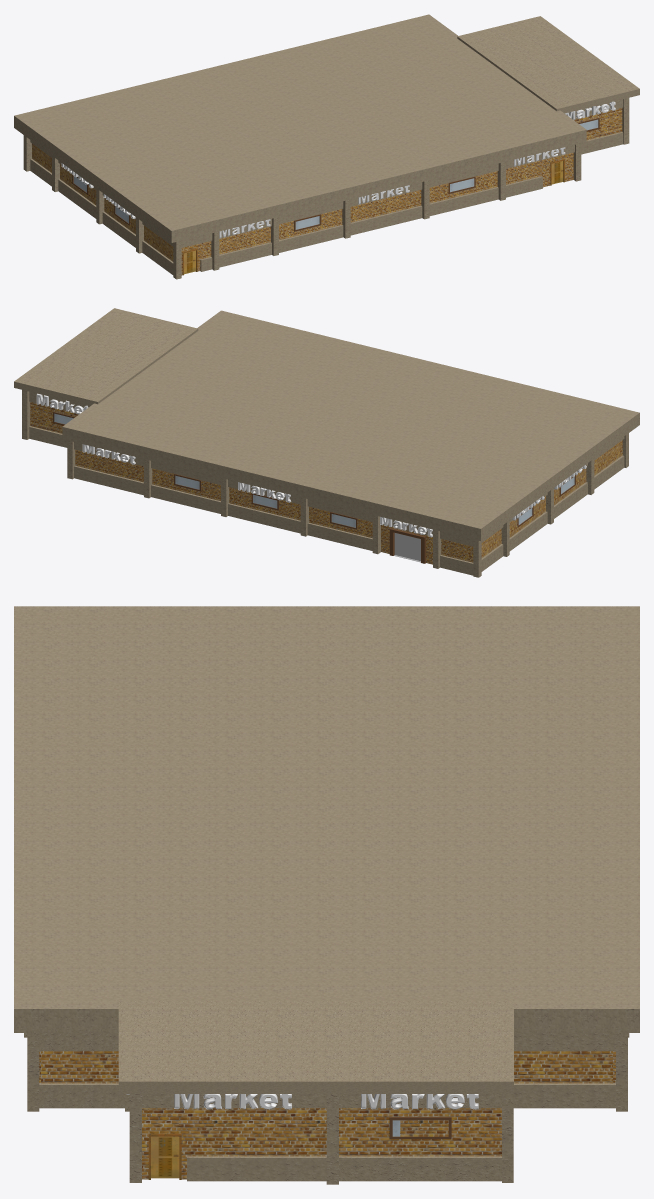
File: Market.fbx
The picture shows the model from 3 angles, top to bottom: view 1: azimuth 30°, elevation 25°; view 2: azimuth 150°, elevation 25°; view 3: azimuth 270°, elevation 25°; orthographic projection. The views are drawn at different scales.
Parts seen in each view (by area): view 1: Top, Market21, Exterior (×3), Market18, Market14; view 2: Top, Market19, Exterior (×3), Market18, Market16, Door_Large_Frame, Market13, Down; view 3: Top, Market13, Exterior, Walls_Exterior, Block_Top, Door_Single.
Part boxes in pixels (box(x1,y1,x2,y2)): Top: box(14, 14, 639, 242); Market21: box(173, 145, 574, 279); Exterior (×3): box(32, 108, 622, 275); Market18: box(23, 135, 173, 274); Market14: box(565, 99, 623, 154); Top: box(14, 308, 639, 540); Market19: box(74, 442, 473, 575); Exterior (×3): box(30, 402, 621, 564); Market18: box(473, 437, 624, 577); Market16: box(29, 391, 89, 447); Door_Large_Frame: box(389, 528, 425, 563); Market13: box(22, 390, 30, 439); Down: box(394, 542, 420, 562); Top: box(14, 606, 639, 1093); Market13: box(129, 1094, 513, 1184); Exterior: box(142, 1108, 501, 1179); Walls_Exterior: box(27, 1033, 627, 1111); Block_Top: box(41, 1051, 612, 1083); Door_Single: box(151, 1136, 179, 1178).
Bounding box in the file's own units: 4249 × 452 × 2343.
